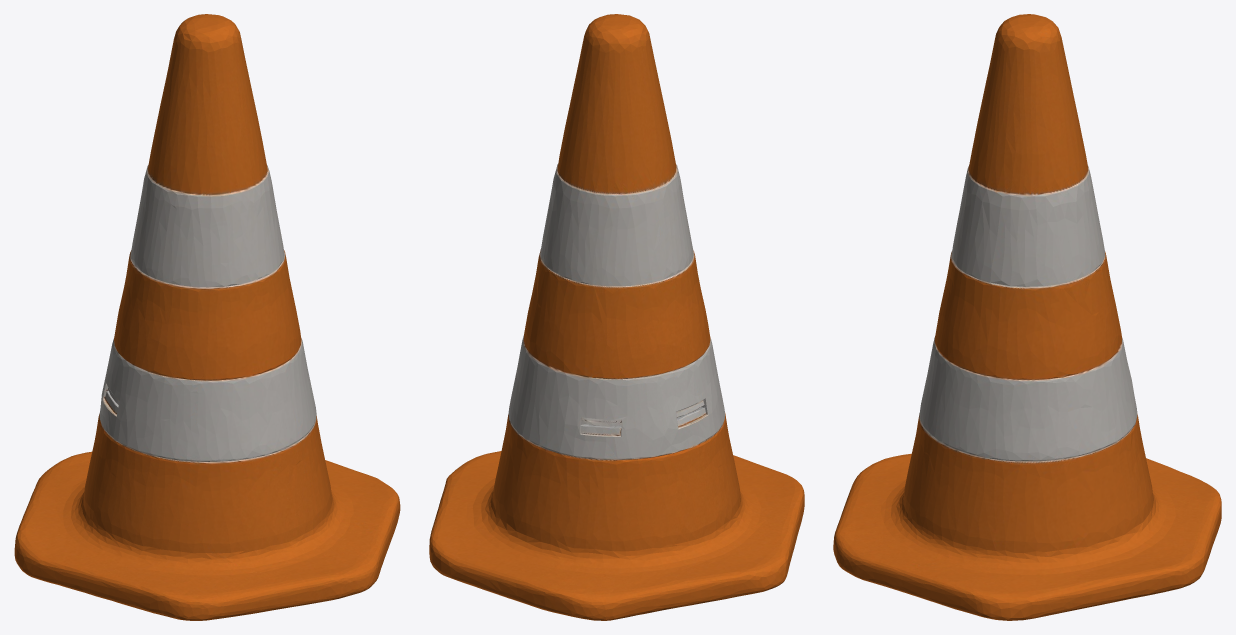
File: construction-cone.glb
3 renders of one model, left to right at view 1: azimuth 30°, elevation 25°; view 2: azimuth 150°, elevation 25°; view 3: azimuth 270°, elevation 25°, orthographic.
Parts seen in each view (by area): view 1: tripo_node_6615dce3-47fe-44f5-b33d-d34e384da8ee; view 2: tripo_node_6615dce3-47fe-44f5-b33d-d34e384da8ee; view 3: tripo_node_6615dce3-47fe-44f5-b33d-d34e384da8ee.
Part boxes in pixels (<box>): tripo_node_6615dce3-47fe-44f5-b33d-d34e384da8ee: <box>14,14,400,620</box>; tripo_node_6615dce3-47fe-44f5-b33d-d34e384da8ee: <box>429,14,804,620</box>; tripo_node_6615dce3-47fe-44f5-b33d-d34e384da8ee: <box>833,14,1221,620</box>.
Size of the model in its own units: 0.7029 by 1 by 0.679.
Materials: 1 (1 with a texture image).
